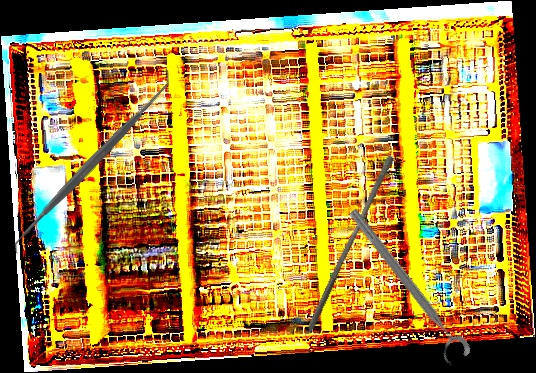Fixation Ring: (336, 205, 474, 369)
Pusher: (305, 151, 396, 336)
Spatula Surgical: (0, 67, 185, 257)
